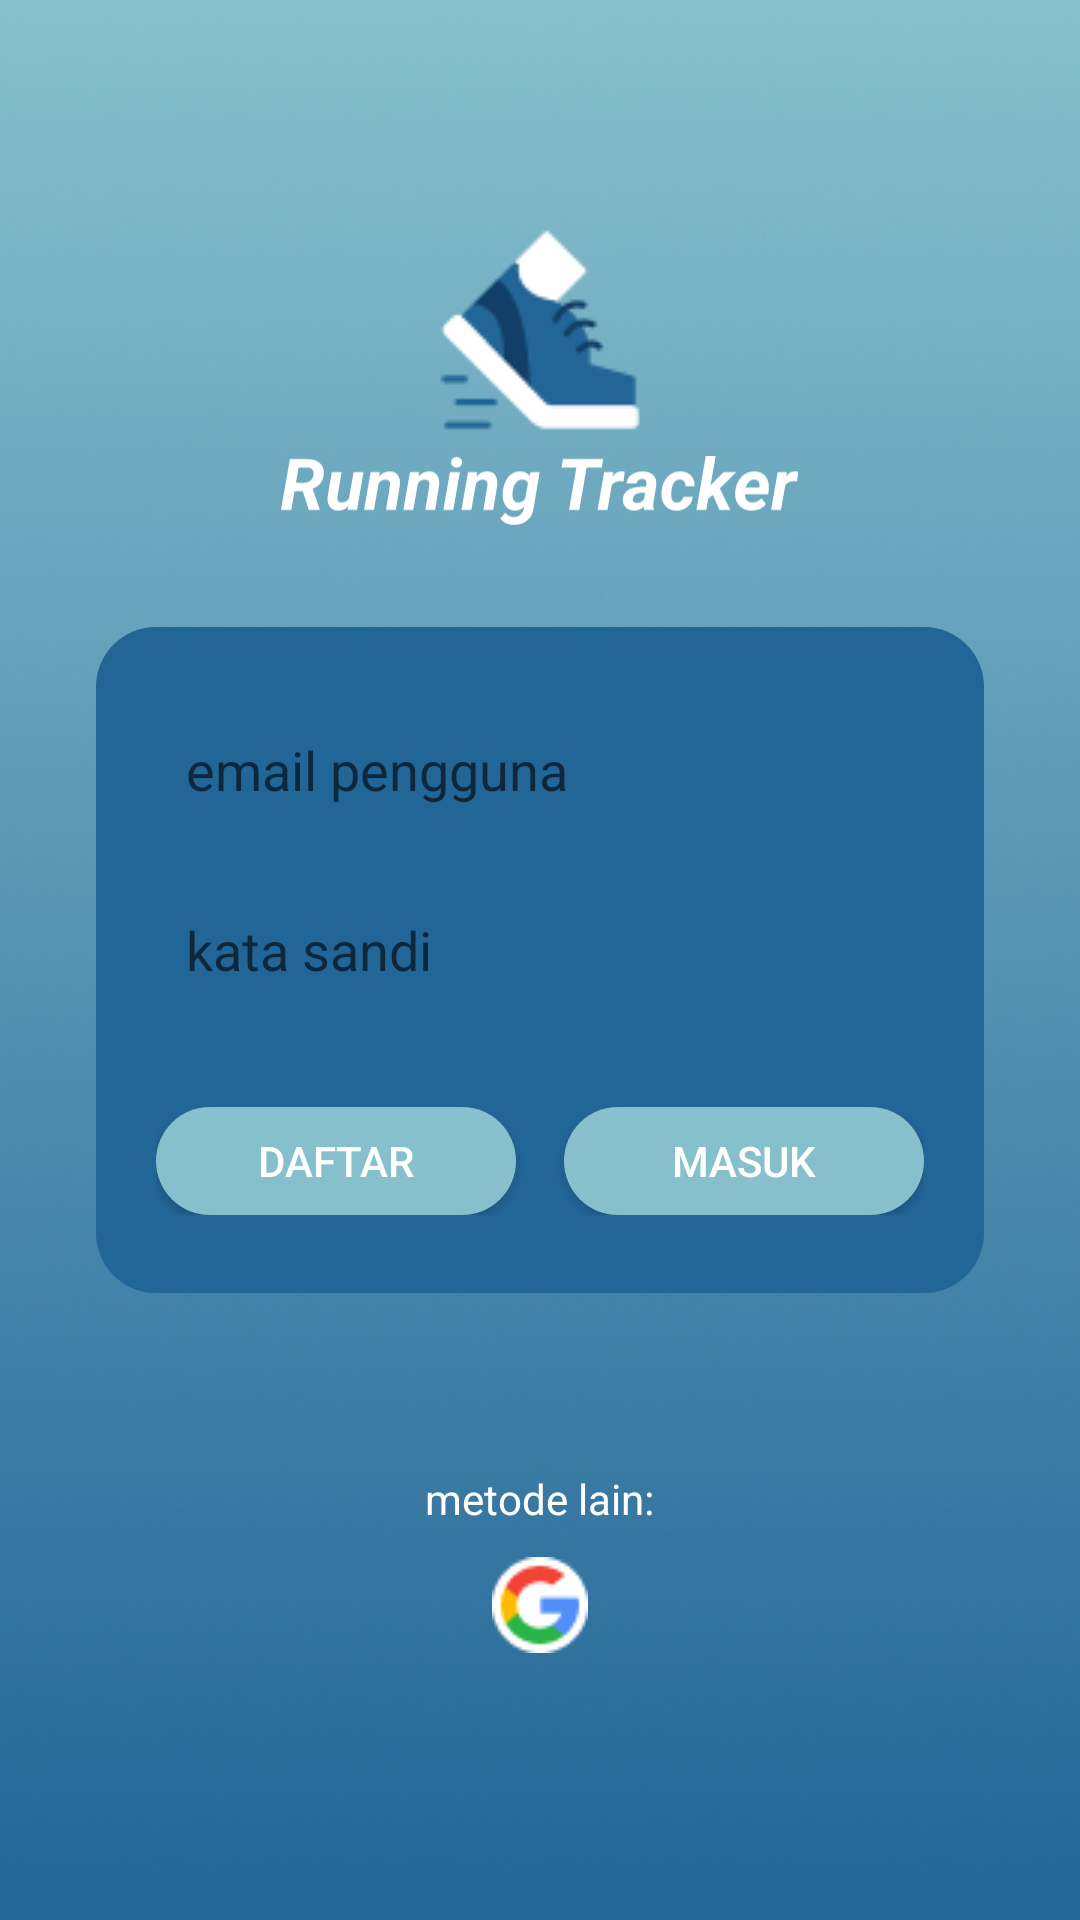

Screen size 1080px x 1920px. Icon name, then its center in pixels as [x,y]:
running app: [540,330]
